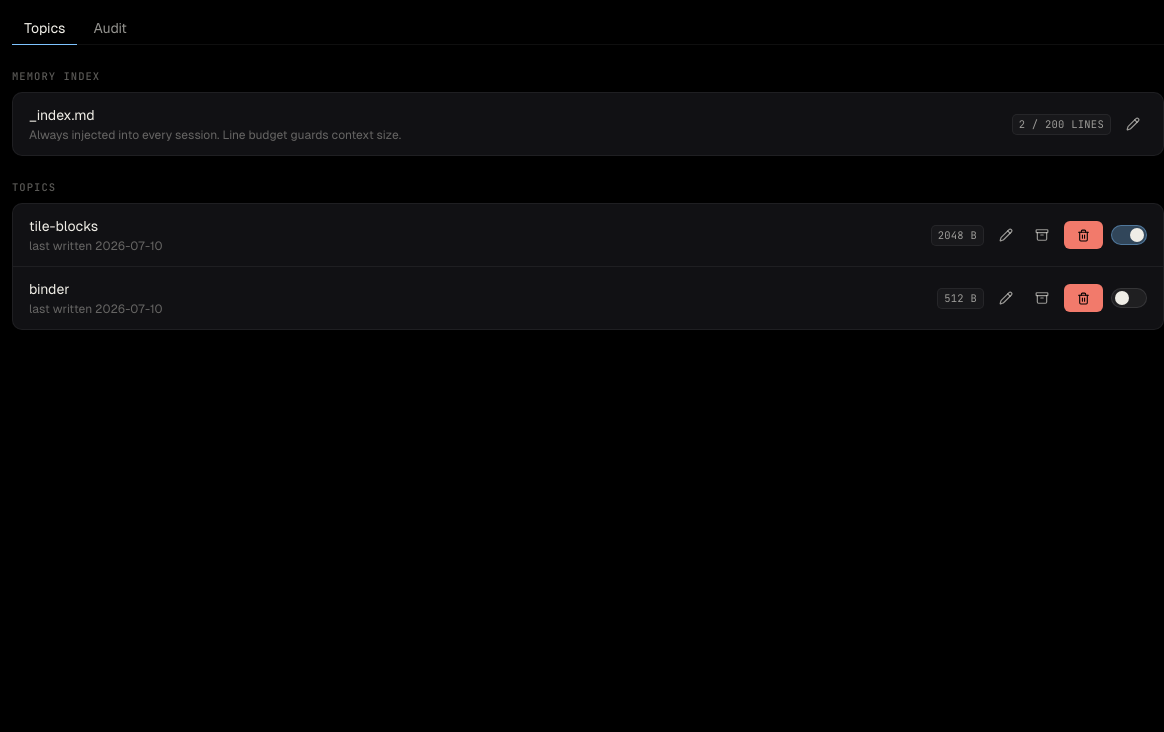
Test: MemorySettings editing › the pencil becomes a save button while editing, and saving closes the editor
Click the button named "Edit tile-blocks": (1006, 235) [992, 221, 1020, 249]
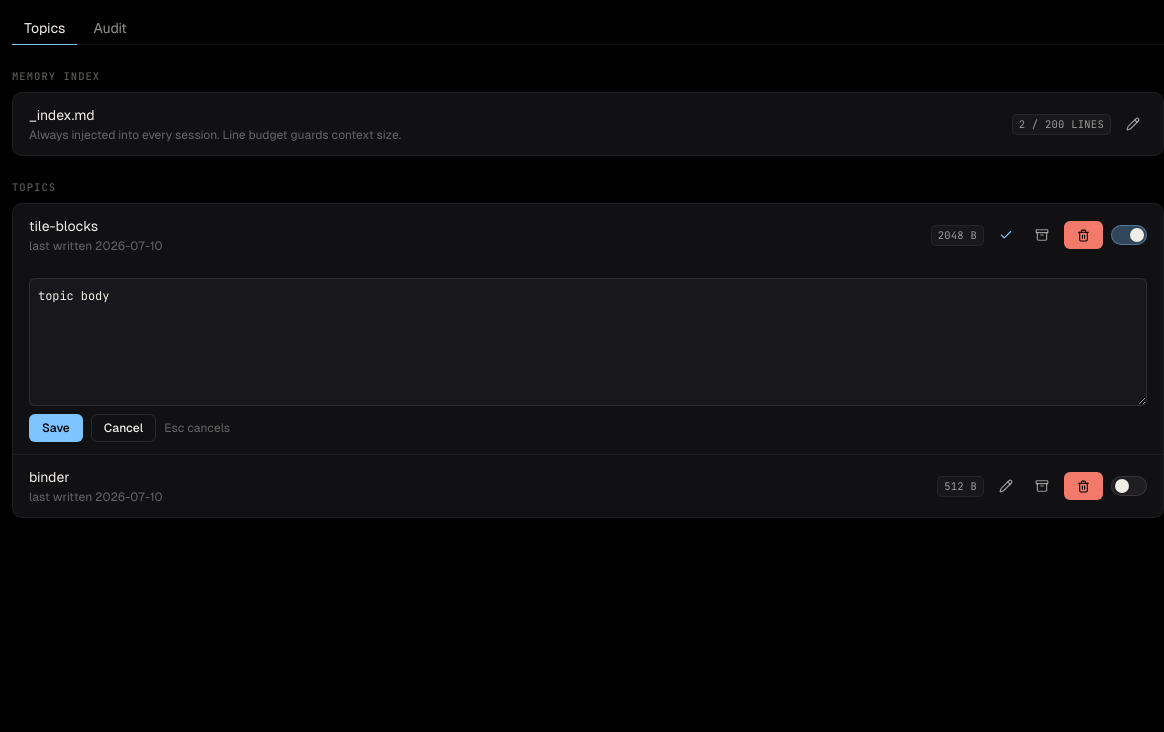
Expected: the text box named "edit · tile-blocks" holds "topic body"
Replace the text in the text box named "edit · tile-blocks" with "edited body": (588, 342) [29, 278, 1147, 406]
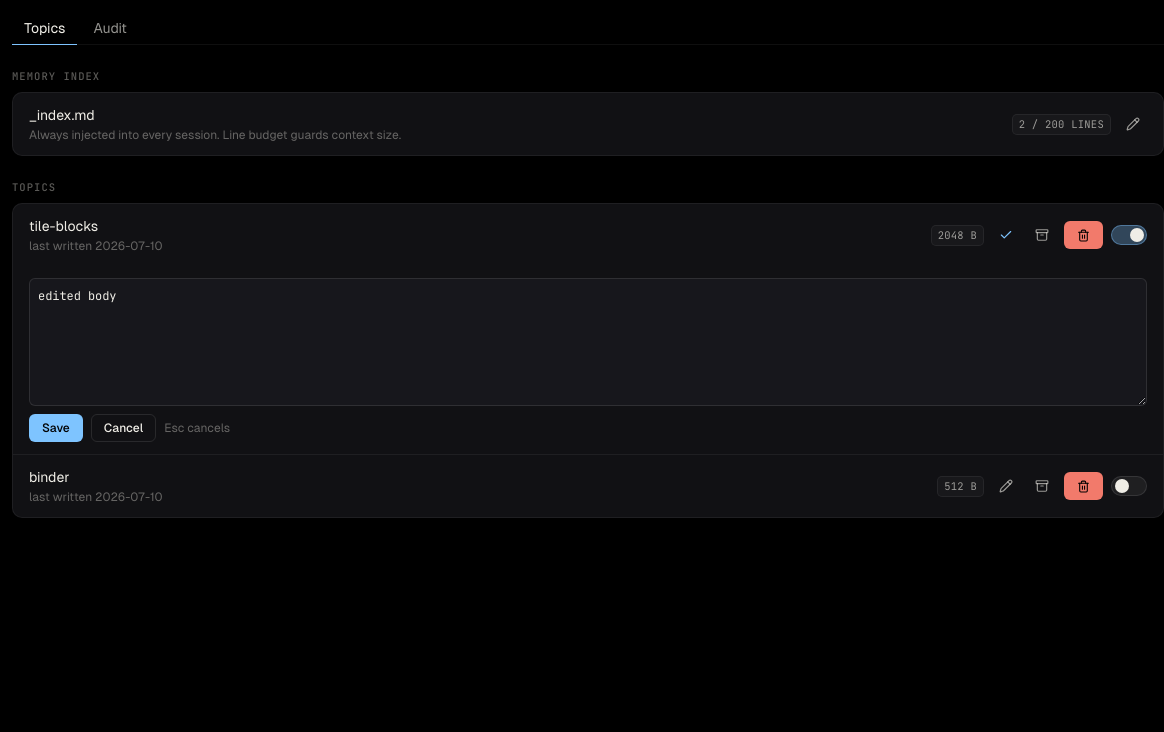
Click the button named "Save tile-blocks": (1006, 235) [992, 221, 1020, 249]
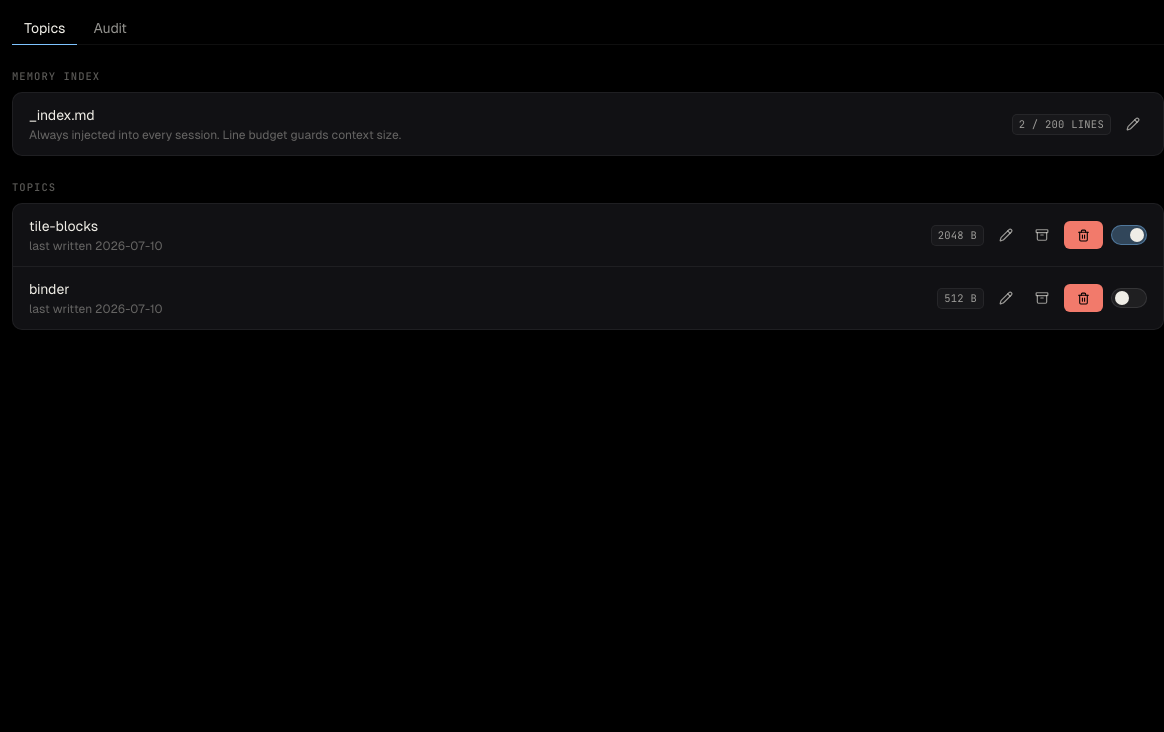
Expected: the button named "Edit tile-blocks" is shown, [992, 221, 1020, 249]
